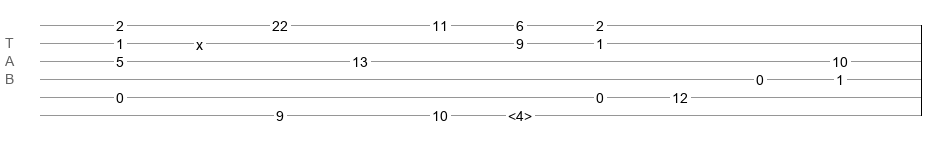0: (116, 90, 124, 100), (596, 90, 604, 100), (756, 72, 764, 82)
1: (116, 36, 124, 46), (596, 36, 604, 46), (836, 72, 844, 82)
10: (432, 108, 448, 118), (832, 54, 848, 64)
11: (432, 18, 448, 28)
12: (672, 90, 688, 100)
13: (352, 54, 368, 64)
2: (116, 18, 124, 28), (596, 18, 604, 28)
22: (272, 18, 288, 28)
5: (116, 54, 124, 64)
6: (516, 18, 524, 28)
9: (276, 108, 284, 118), (516, 36, 524, 46)
harmonic: (508, 108, 532, 118)
x: (196, 37, 203, 45)
